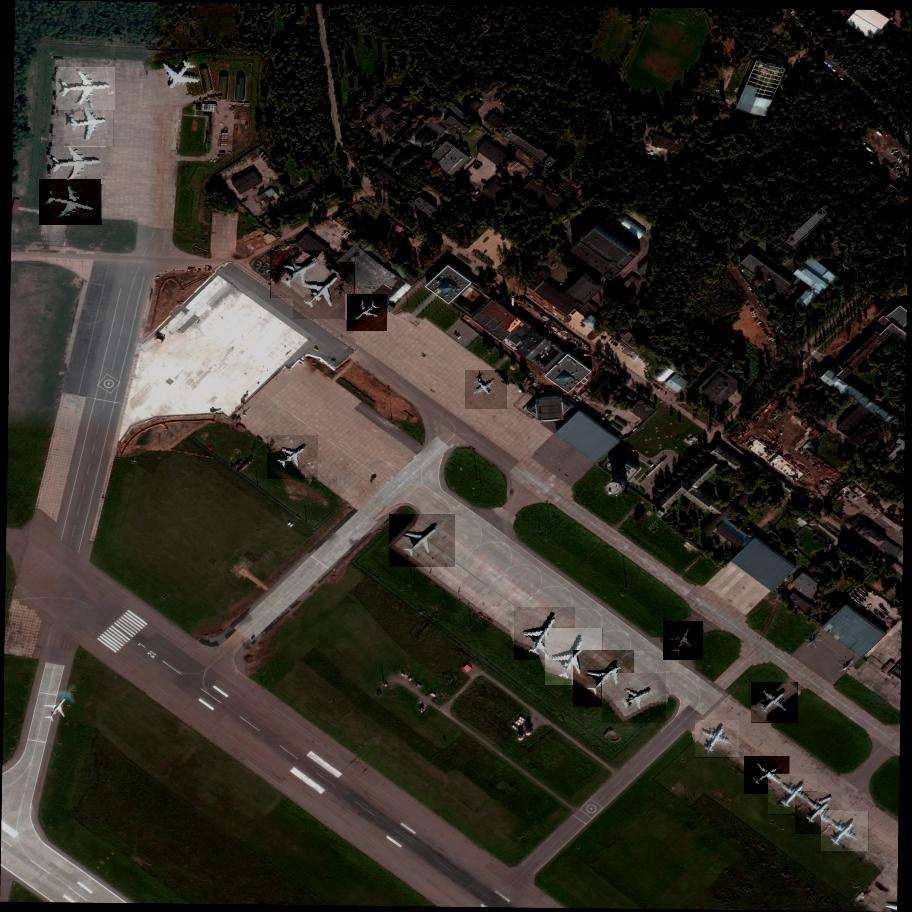plane: (148, 43, 216, 108), (390, 510, 455, 574), (573, 647, 636, 711), (515, 599, 575, 666), (294, 258, 356, 322), (546, 624, 604, 689), (602, 671, 666, 729), (271, 247, 329, 301), (40, 179, 104, 226), (53, 67, 115, 111), (63, 98, 117, 146), (267, 432, 318, 481), (768, 771, 818, 820), (47, 143, 106, 184), (821, 809, 870, 855), (752, 681, 799, 728), (795, 790, 843, 836), (744, 753, 790, 798), (696, 717, 739, 762), (465, 368, 508, 410), (664, 618, 703, 664), (347, 293, 388, 333)
